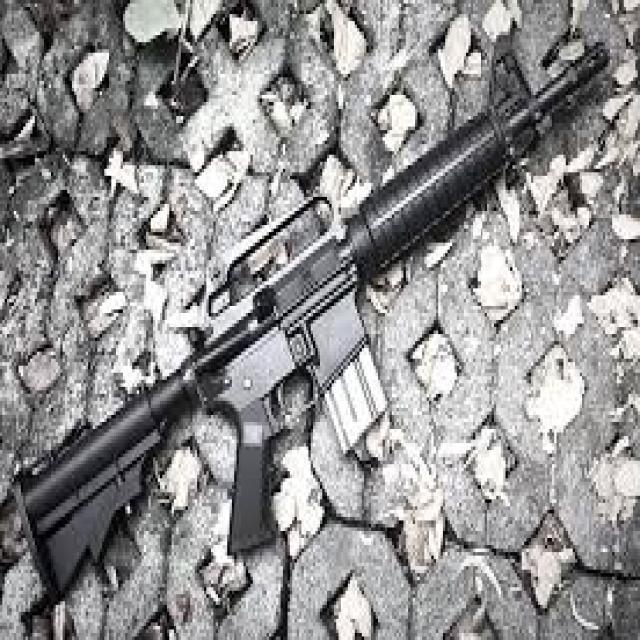m16: (147, 28, 616, 564)
